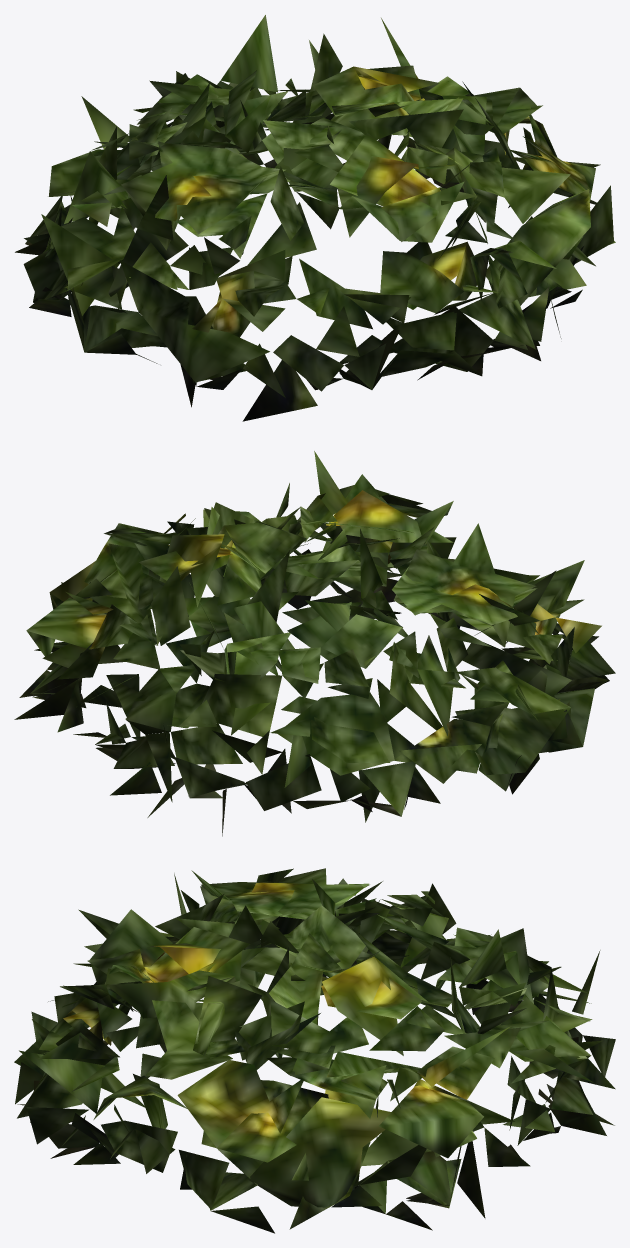
Rendered from bush-3.lod1.glb.
3 views of the same model, one above another, from view 1: azimuth 30°, elevation 25°; view 2: azimuth 150°, elevation 25°; view 3: azimuth 270°, elevation 25° (orthographic). The views are drawn at different scales.
Visible parts, largest first — view 1: terrain-bush-3; view 2: terrain-bush-3; view 3: terrain-bush-3.
Part boxes in pixels (x1,y1,x2,y2): terrain-bush-3: (15, 15, 615, 421); terrain-bush-3: (14, 451, 615, 836); terrain-bush-3: (14, 868, 615, 1233).
Size of the model in its own units: 0.3279 by 0.1352 by 0.3123.
Materials: 1 (1 with a texture image).
